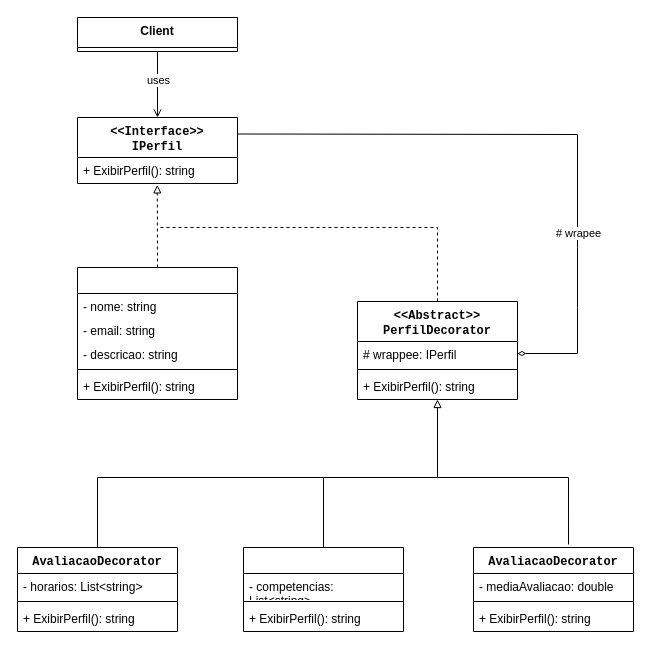
The diagram is 651 pixels wide and 652 high, and some of its shapes have lost their labels. The box of each missing label's shape, as (x1, y1, x2, y2) in pixels:
CompetenciaDecorator: (242, 546, 404, 632)
UsuarioBase: (76, 266, 238, 400)
